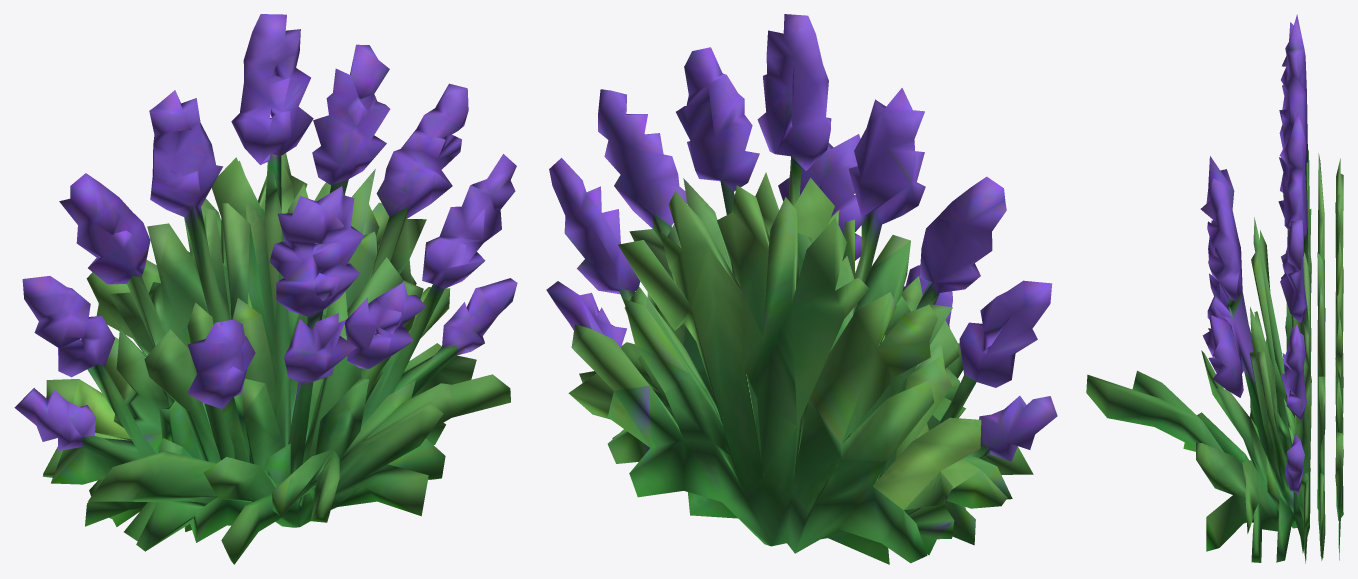
The model's file is lavender.glb.
The picture shows the model from 3 angles, left to right: view 1: azimuth 30°, elevation 25°; view 2: azimuth 150°, elevation 25°; view 3: azimuth 270°, elevation 25°; orthographic projection. The views are drawn at different scales.
Parts seen in each view (by area): view 1: model; view 2: model; view 3: model.
Part boxes in pixels (x1,y1,x2,y2): model: (14,14,517,564); model: (546,14,1057,564); model: (1086,14,1343,563).
Size of the model in its own units: 1.91 by 1.86 by 0.8702.
1 material, 1 textured.
